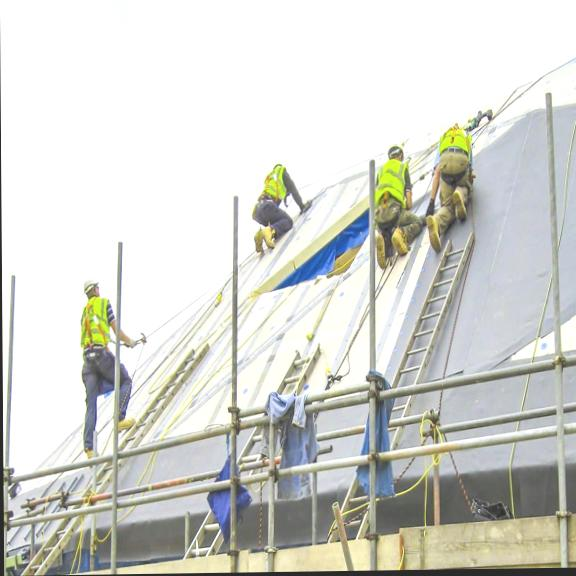safety_vest: (436, 125, 477, 183), (80, 290, 114, 355), (372, 155, 413, 206), (259, 163, 290, 217)
